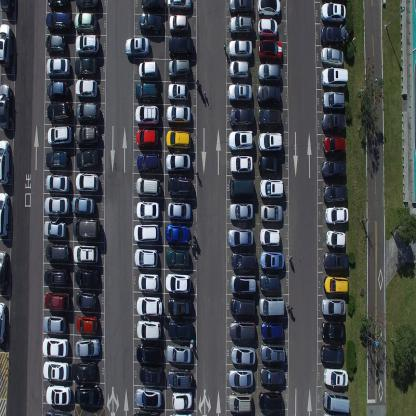car: (323, 389, 350, 415), (229, 272, 257, 295), (0, 81, 13, 130), (228, 128, 254, 152), (228, 14, 254, 38), (75, 100, 101, 124), (136, 294, 163, 317), (229, 318, 256, 341), (226, 227, 254, 249), (320, 67, 348, 89), (256, 82, 281, 106), (136, 318, 162, 341), (168, 366, 194, 389), (260, 341, 286, 364), (257, 130, 283, 153), (320, 23, 346, 46), (46, 123, 72, 146), (74, 123, 100, 146), (135, 386, 162, 408), (229, 295, 256, 317), (228, 176, 255, 198), (319, 0, 346, 22), (73, 218, 100, 240), (45, 11, 72, 33), (74, 384, 102, 405), (258, 389, 283, 412), (165, 270, 191, 292), (167, 175, 193, 197), (133, 222, 159, 244), (259, 364, 285, 386), (230, 344, 256, 366), (258, 176, 284, 198), (323, 250, 349, 272), (323, 274, 349, 296), (323, 366, 349, 388), (45, 383, 71, 405), (74, 266, 100, 288), (44, 289, 70, 311), (46, 100, 72, 122), (167, 35, 193, 57), (134, 81, 160, 103), (166, 128, 192, 150), (0, 23, 13, 67), (136, 343, 163, 364), (70, 361, 97, 382), (166, 222, 190, 245), (228, 391, 252, 414), (257, 107, 281, 130), (258, 38, 282, 61), (322, 157, 346, 180), (320, 342, 344, 365), (74, 55, 98, 78), (165, 152, 190, 174), (321, 111, 346, 133), (321, 319, 346, 341), (166, 200, 192, 221), (167, 295, 193, 316), (135, 176, 161, 197), (231, 250, 257, 271), (74, 336, 100, 357), (42, 336, 68, 357), (44, 195, 70, 216), (124, 35, 150, 56), (166, 104, 192, 125), (258, 296, 285, 316), (42, 360, 69, 380), (0, 137, 11, 186), (258, 153, 281, 176), (139, 12, 162, 35), (136, 200, 160, 222), (134, 246, 158, 268), (136, 151, 160, 173), (228, 82, 252, 104), (321, 90, 345, 112), (322, 134, 346, 156), (75, 171, 99, 193), (45, 148, 69, 170), (74, 10, 98, 32), (135, 104, 159, 126), (229, 106, 254, 127), (257, 61, 282, 82), (323, 183, 348, 204), (166, 343, 192, 363), (139, 365, 165, 385), (167, 319, 193, 339), (259, 250, 285, 270), (73, 244, 99, 264), (228, 60, 251, 82), (325, 204, 348, 226), (260, 202, 284, 223), (71, 195, 95, 216), (75, 78, 99, 99), (46, 56, 70, 77), (135, 127, 159, 148), (228, 368, 253, 388), (43, 266, 68, 286), (45, 172, 70, 192), (228, 202, 254, 221), (75, 289, 97, 311), (76, 148, 98, 170), (45, 34, 67, 56), (166, 246, 190, 266), (229, 154, 253, 174), (42, 314, 66, 334), (43, 218, 67, 238), (75, 34, 99, 54), (167, 58, 191, 78), (0, 190, 10, 238), (44, 243, 70, 261), (325, 227, 346, 249), (46, 79, 68, 100), (168, 12, 189, 34), (261, 320, 284, 340), (321, 46, 344, 66), (228, 39, 252, 58), (260, 226, 281, 247), (138, 272, 160, 292), (172, 390, 194, 410), (258, 16, 278, 38), (76, 314, 98, 334), (167, 80, 189, 100), (322, 298, 346, 316), (0, 248, 9, 295), (138, 59, 158, 80), (259, 272, 280, 291), (257, 0, 281, 16), (228, 0, 253, 15), (166, 0, 192, 12), (0, 301, 7, 345), (140, 0, 164, 12), (76, 0, 101, 11), (45, 408, 70, 416), (47, 0, 69, 9), (0, 0, 14, 14), (133, 409, 159, 415), (168, 411, 194, 415)
